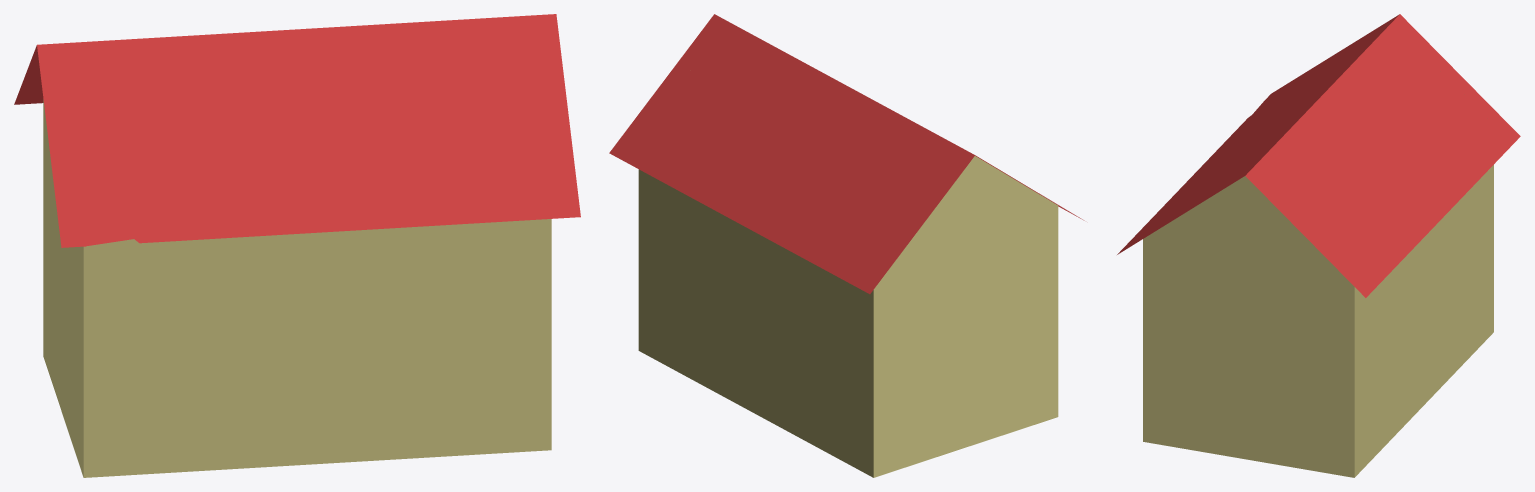
3 views of the same model, side by side, from view 1: azimuth 30°, elevation 25°; view 2: azimuth 150°, elevation 25°; view 3: azimuth 270°, elevation 25° (orthographic). The views are drawn at different scales.
Size of the model in its own units: 23.6 by 19.72 by 15.75.
